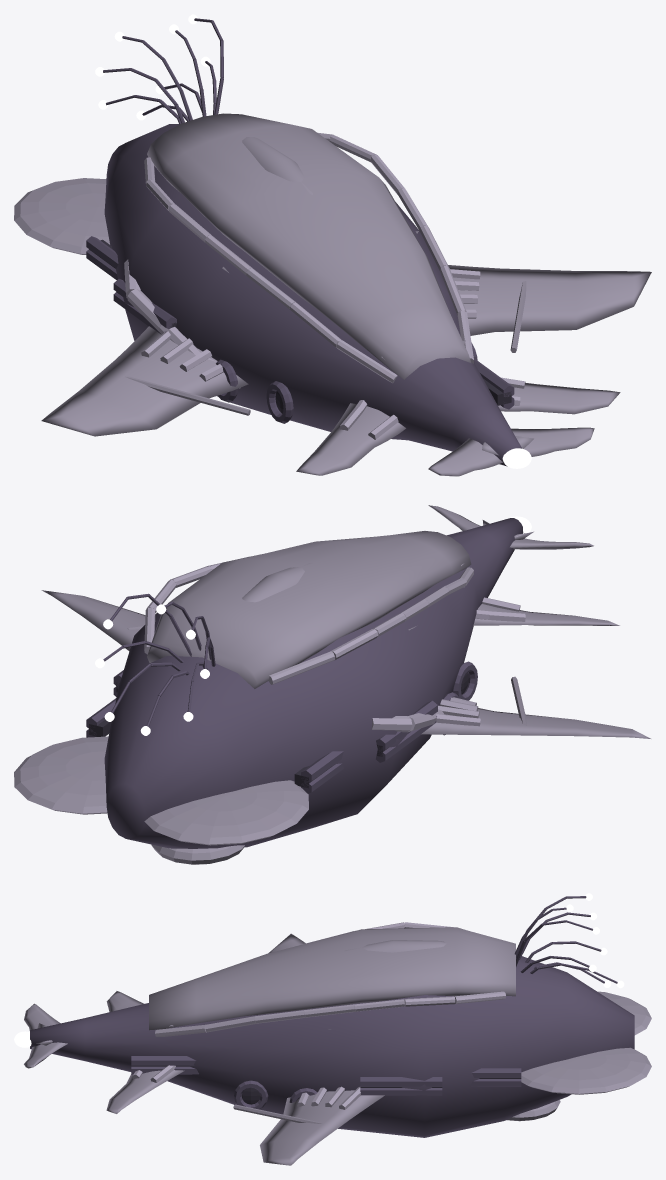
3 renders of one model, top to bottom at view 1: azimuth 30°, elevation 25°; view 2: azimuth 150°, elevation 25°; view 3: azimuth 270°, elevation 25°, orthographic. The views are drawn at different scales.
Visible parts, largest first — view 1: RIMWARD_HULL; view 2: RIMWARD_HULL, RIMWARD_EMISSIVE; view 3: RIMWARD_HULL, RIMWARD_EMISSIVE.
Boxes of the visible parts, x1,y1,x2,y2 form: RIMWARD_HULL: (14,18,651,476); RIMWARD_HULL: (14,505,650,864); RIMWARD_EMISSIVE: (95,604,209,735); RIMWARD_HULL: (24,896,651,1165); RIMWARD_EMISSIVE: (566,893,624,988).
Size of the model in its own units: 6.96 by 3.13 by 8.08.
